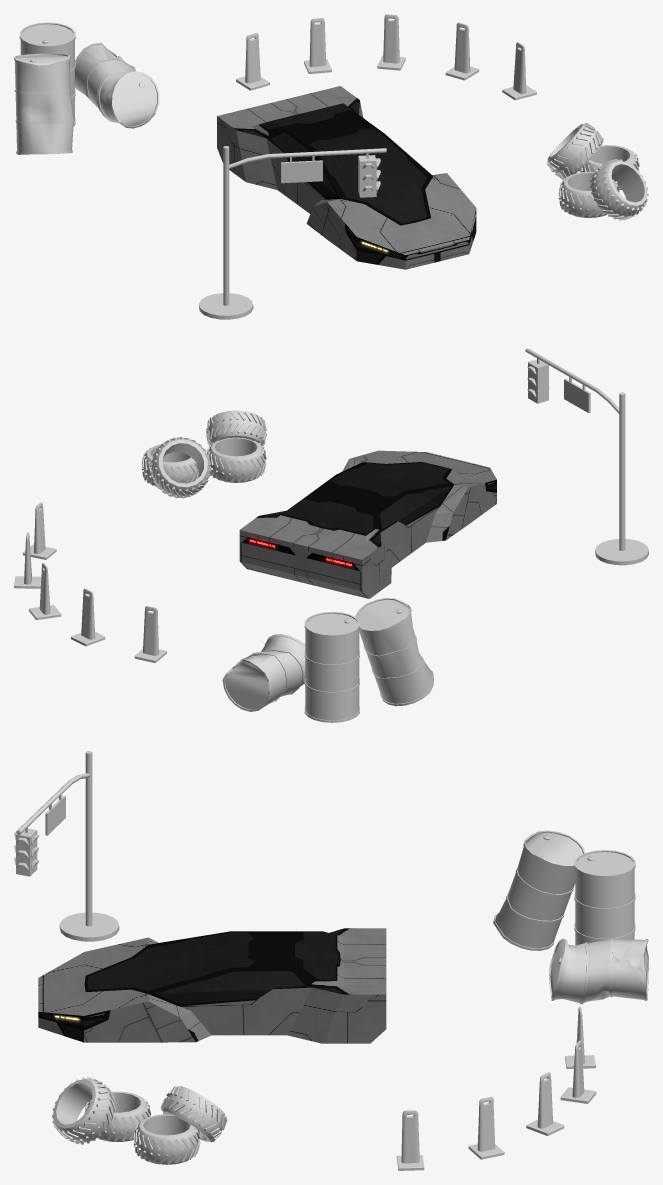
File: car_scene_1.gltf
The picture shows the model from 3 angles, top to bottom: view 1: azimuth 30°, elevation 25°; view 2: azimuth 150°, elevation 25°; view 3: azimuth 270°, elevation 25°; orthographic projection. The views are drawn at different scales.
Parts seen in each view (by area): view 1: SF_LODs_set_002_02, Barrels, Cylinder012, Rectangle Construction Cone.001, Debris_Tires, Debris_Tires.001; view 2: SF_LODs_set_002_02, Barrels, Cylinder012, Debris_Tires, Rectangle Construction Cone.001, Debris_Tires.001; view 3: SF_LODs_set_002_02, Barrels, Debris_Tires.001, Rectangle Construction Cone.001, Cylinder012, Debris_Tires.
Boxes of the visible parts, x1,y1,x2,y2 form: SF_LODs_set_002_02: (217, 86, 476, 269); Barrels: (14, 22, 159, 154); Cylinder012: (199, 146, 386, 319); Rectangle Construction Cone.001: (236, 14, 536, 100); Debris_Tires: (558, 159, 648, 220); Debris_Tires.001: (546, 122, 639, 189); SF_LODs_set_002_02: (239, 450, 496, 598); Barrels: (222, 597, 433, 722); Cylinder012: (525, 348, 648, 565); Debris_Tires: (206, 410, 266, 482); Rectangle Construction Cone.001: (14, 502, 166, 662); Debris_Tires.001: (141, 437, 210, 498); SF_LODs_set_002_02: (38, 928, 386, 1043); Barrels: (493, 830, 648, 1004); Debris_Tires.001: (133, 1086, 227, 1164); Rectangle Construction Cone.001: (396, 1006, 596, 1170); Cylinder012: (14, 751, 119, 941); Debris_Tires: (52, 1077, 151, 1144).
Bounding box in the file's own units: 10.27 × 3.47 × 10.82.
Materials: 3 (1 with a texture image).
